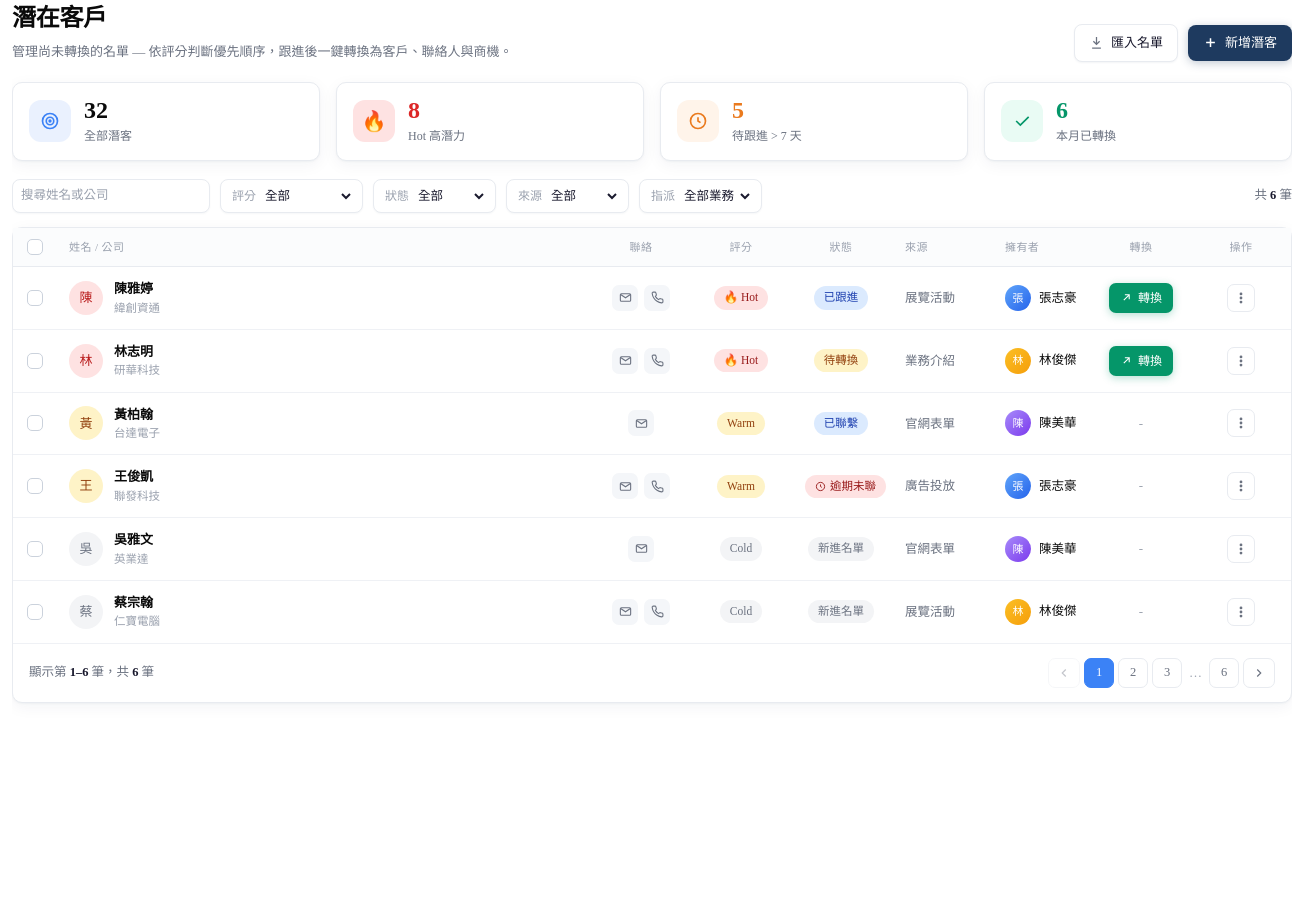
Test: Leads 搜尋 › 清空關鍵字後還原全部
Type "雅婷" into the search field named "搜尋潛客" at (111, 196), box top-left (21, 180), bottom-right (201, 212)
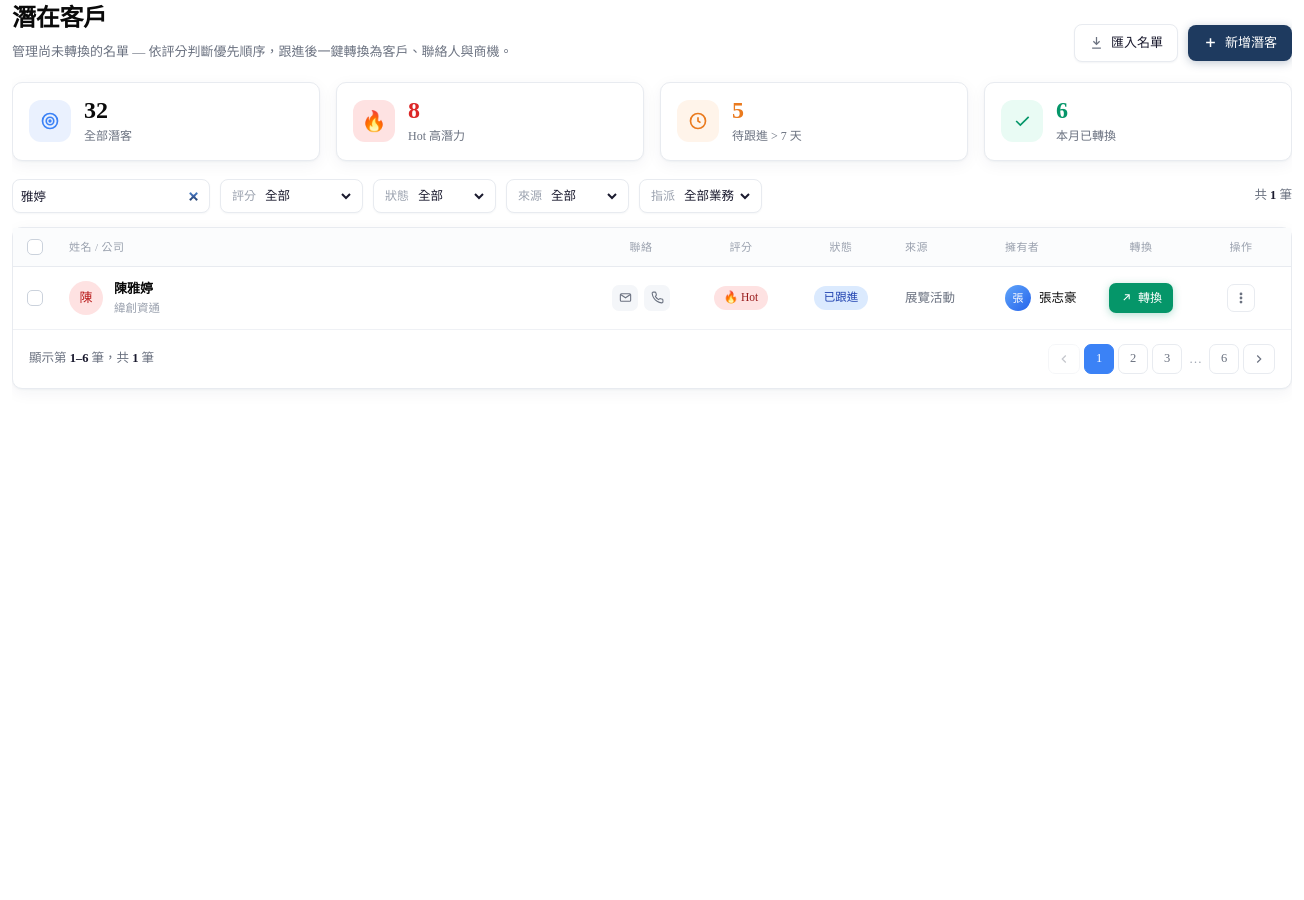
Clear the search field named "搜尋潛客" at (111, 196), box top-left (21, 180), bottom-right (201, 212)
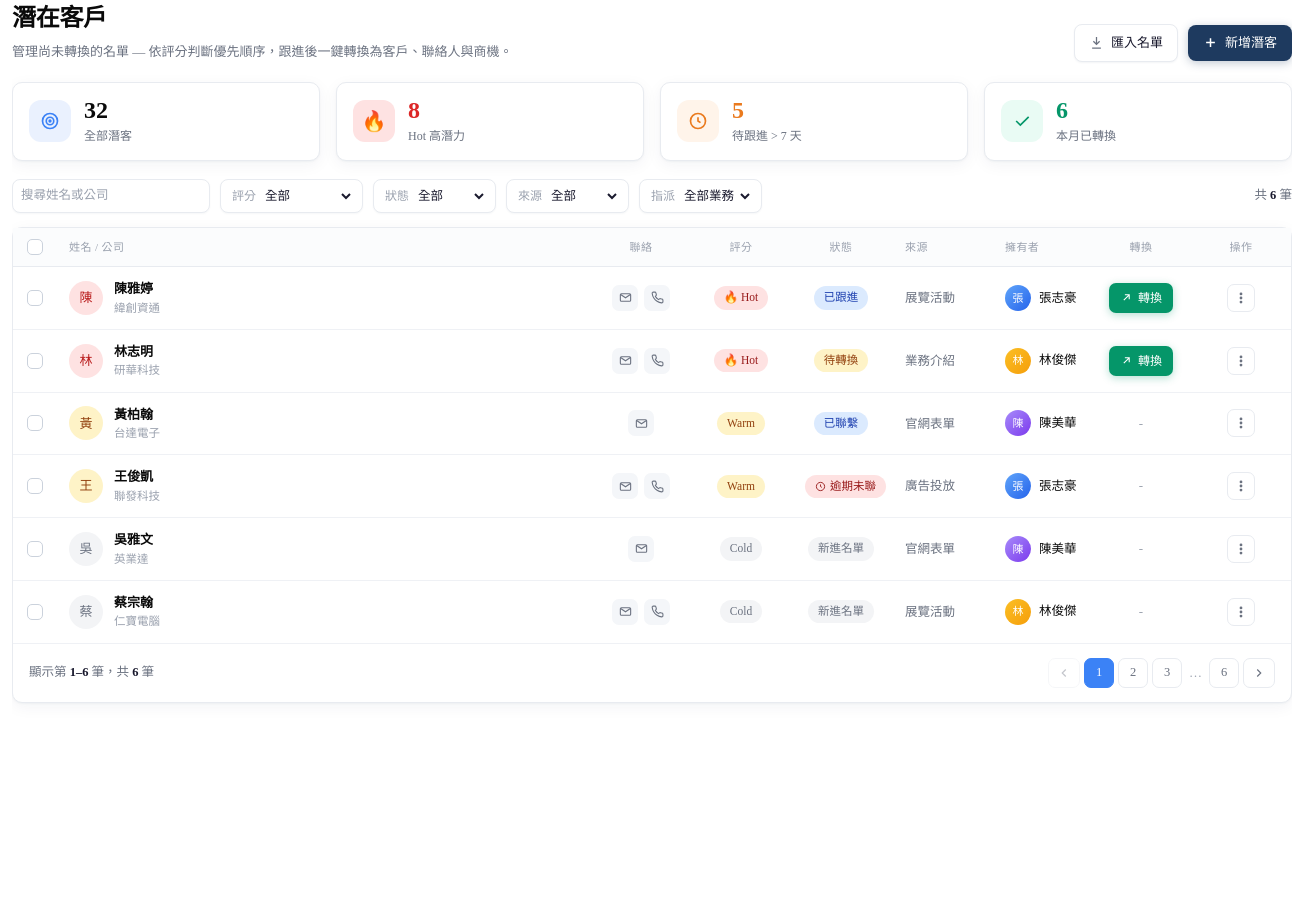
Expected: the text "陳雅婷" is shown, top-left (114, 281), bottom-right (153, 296)
Result: the text "林志明" is shown at top-left (114, 344), bottom-right (153, 359)
